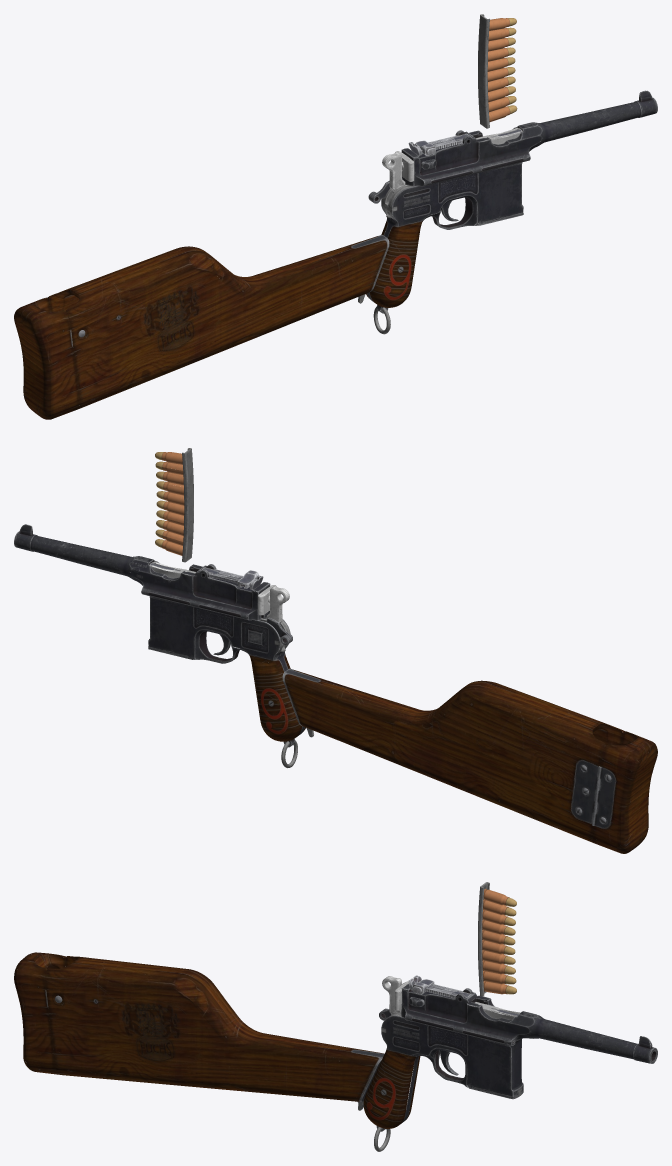
The model's file is mauser_c96_lod0.glb.
The picture shows the model from 3 angles, top to bottom: view 1: azimuth 30°, elevation 25°; view 2: azimuth 150°, elevation 25°; view 3: azimuth 330°, elevation 25°; orthographic projection.
Visible parts, largest first — view 1: Receiver_And_Body, Stripper_Clip, Bolt_Carrier, Scope_Assembly, Bolt_Handle; view 2: Receiver_And_Body, Stripper_Clip, Bolt_Carrier, Scope_Assembly; view 3: Receiver_And_Body, Stripper_Clip, Scope_Assembly, Bolt_Carrier, Bolt_Handle.
Boxes of the visible parts, x1,y1,x2,y2 form: Receiver_And_Body: (14, 90, 657, 419); Stripper_Clip: (478, 14, 517, 128); Bolt_Carrier: (395, 128, 522, 181); Scope_Assembly: (408, 134, 471, 155); Bolt_Handle: (382, 152, 406, 197); Receiver_And_Body: (14, 524, 657, 853); Stripper_Clip: (155, 448, 193, 562); Bolt_Carrier: (149, 561, 276, 615); Scope_Assembly: (200, 567, 263, 589); Receiver_And_Body: (14, 952, 657, 1151); Stripper_Clip: (478, 882, 516, 996); Scope_Assembly: (408, 975, 471, 998); Bolt_Carrier: (395, 980, 520, 1019); Bolt_Handle: (382, 976, 401, 1014).
Bounding box in the file's own units: 0.685 × 0.3027 × 0.0491.
Materials: 3 (3 with a texture image).
